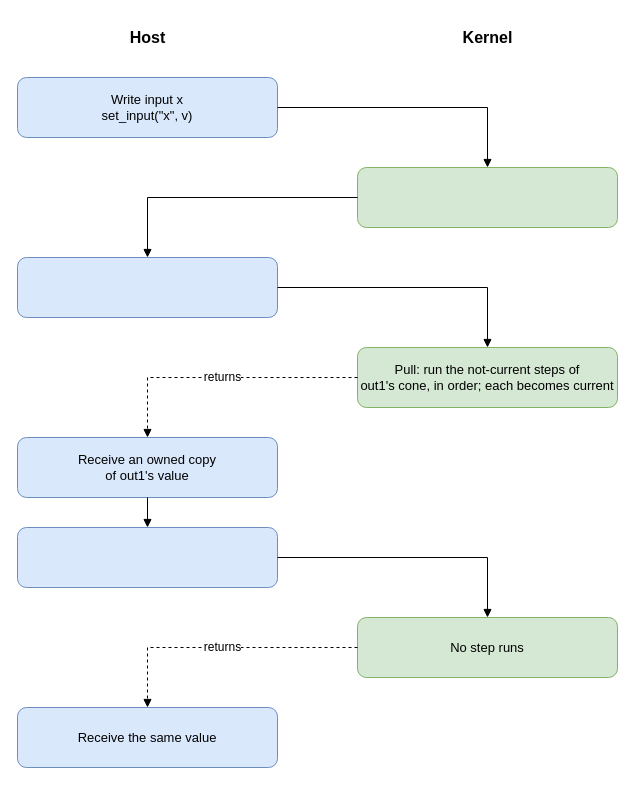
The diagram is 635 pixels wide and 785 high, and some of its shapes have lost their labels. Here are the shapes that lost their labels. From the top down, the centre of each, then its label:
point (487, 197): Push: mark not current every step with x in its provenance
point (147, 287): Pull output out1 pull("out1")
point (147, 557): Pull out1 again, with no write in between
